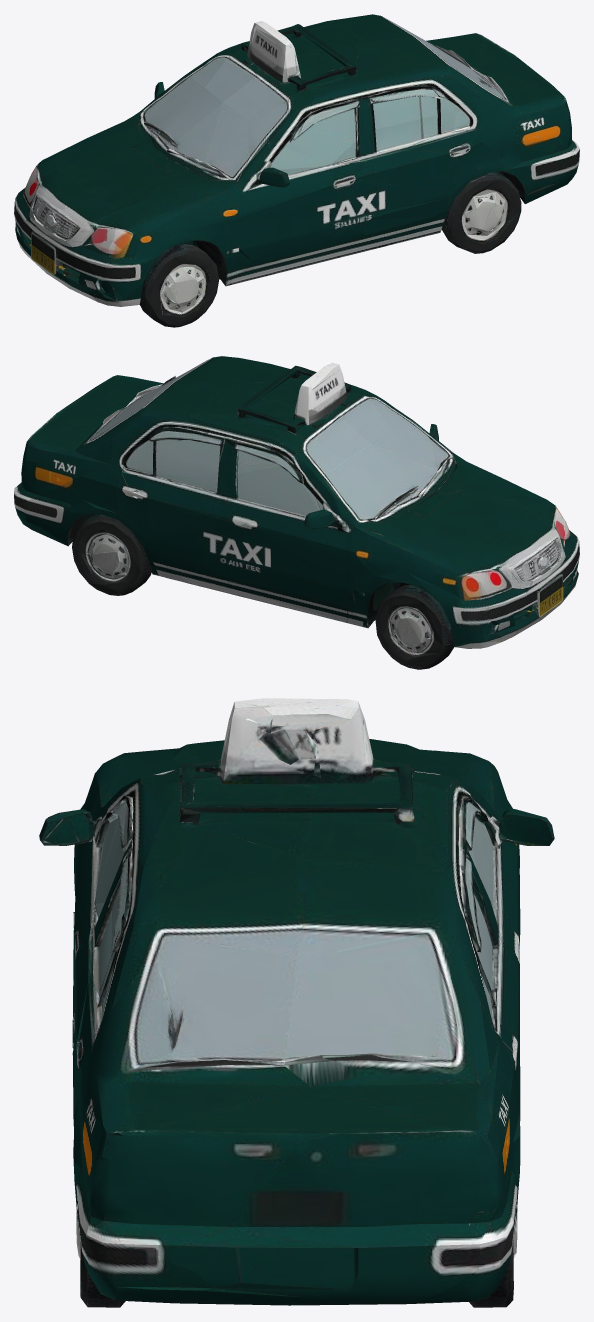
File: car_taxi.glb
3 views of the same model, one above another, from view 1: azimuth 30°, elevation 25°; view 2: azimuth 150°, elevation 25°; view 3: azimuth 270°, elevation 25° (orthographic). The views are drawn at different scales.
Size of the model in its own units: 1.9 by 0.8117 by 0.8564.
Materials: 1 (1 with a texture image).
